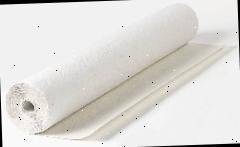paper: (2, 0, 204, 137)
